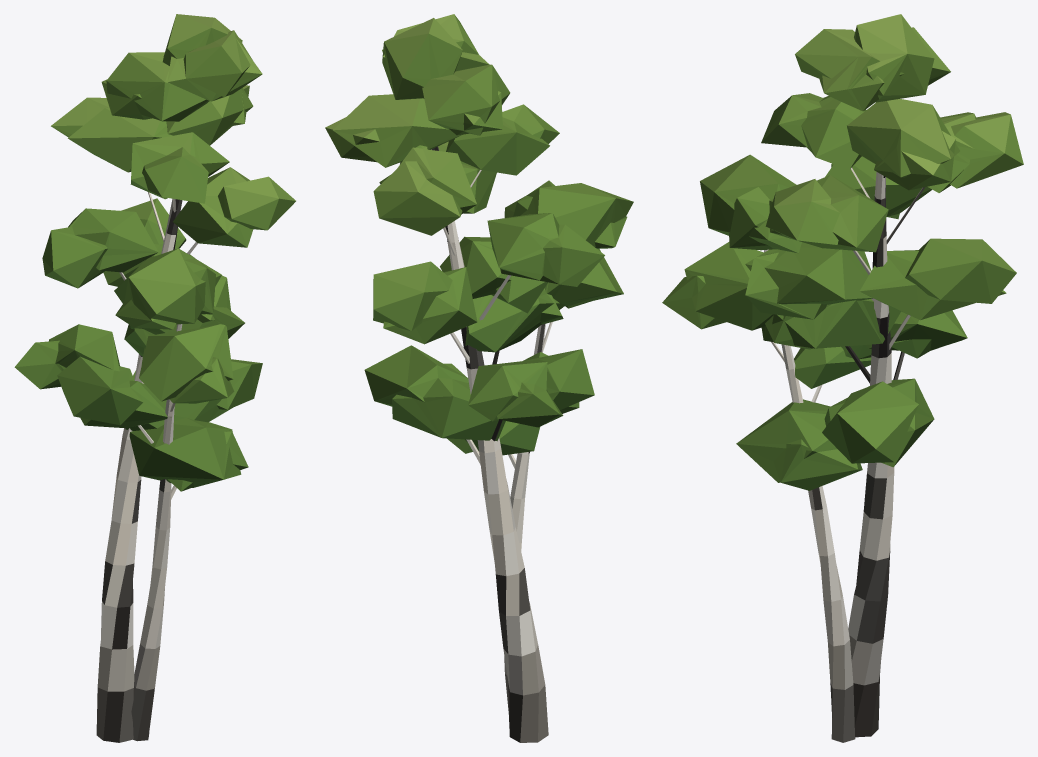
Rendered from zenscape-hero-birch.glb.
3 views of the same model, side by side, from view 1: azimuth 30°, elevation 25°; view 2: azimuth 150°, elevation 25°; view 3: azimuth 270°, elevation 25° (orthographic). The views are drawn at different scales.
Parts seen in each view (by area): view 1: Crown, Bark; view 2: Crown, Bark; view 3: Crown, Bark.
Part boxes in pixels (x1,y1,x2,y2): Crown: [14, 14, 295, 491]; Bark: [96, 192, 197, 742]; Crown: [325, 14, 633, 455]; Bark: [423, 98, 552, 742]; Crown: [662, 14, 1023, 490]; Bark: [764, 167, 925, 742].
Size of the model in its own units: 2.84 by 7.91 by 3.42.
